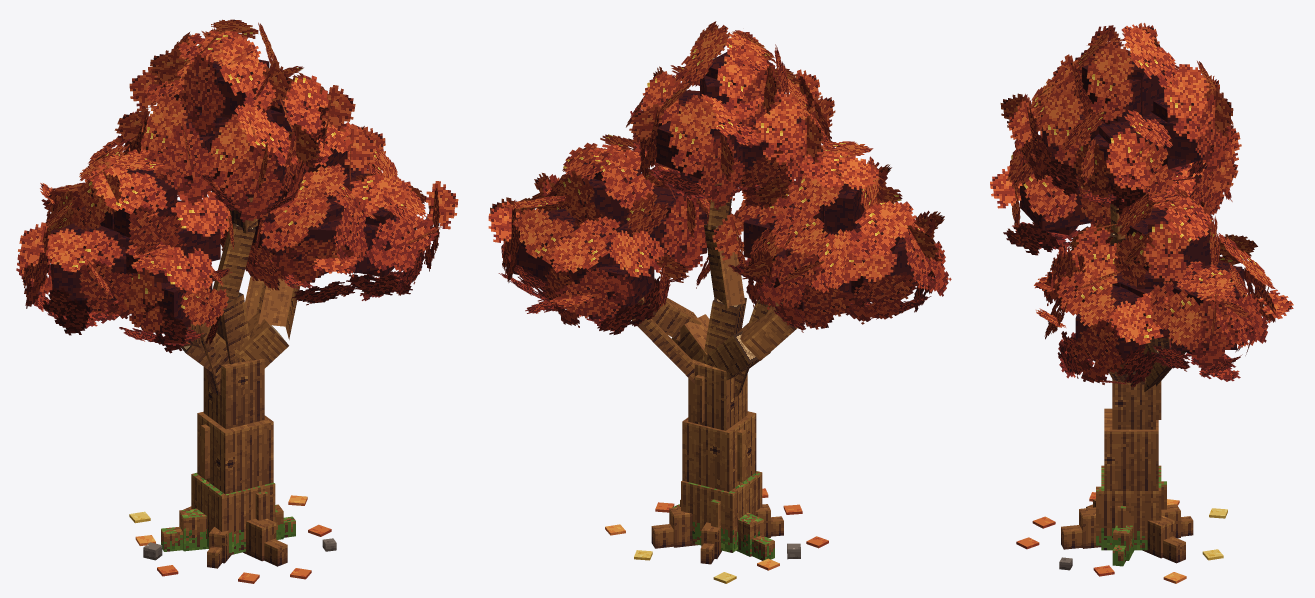
The model's file is maple_tree.glb.
The picture shows the model from 3 angles, left to right: view 1: azimuth 30°, elevation 25°; view 2: azimuth 150°, elevation 25°; view 3: azimuth 270°, elevation 25°; orthographic projection. The views are drawn at different scales.
Parts seen in each view (by area): view 1: maple_tree; view 2: maple_tree; view 3: maple_tree.
Boxes of the visible parts, x1,y1,x2,y2 form: maple_tree: (16, 19, 458, 583); maple_tree: (488, 21, 951, 583); maple_tree: (990, 23, 1293, 583).
Size of the model in its own units: 5.66 by 6.5 by 3.58.
Materials: 2 (2 with a texture image).
